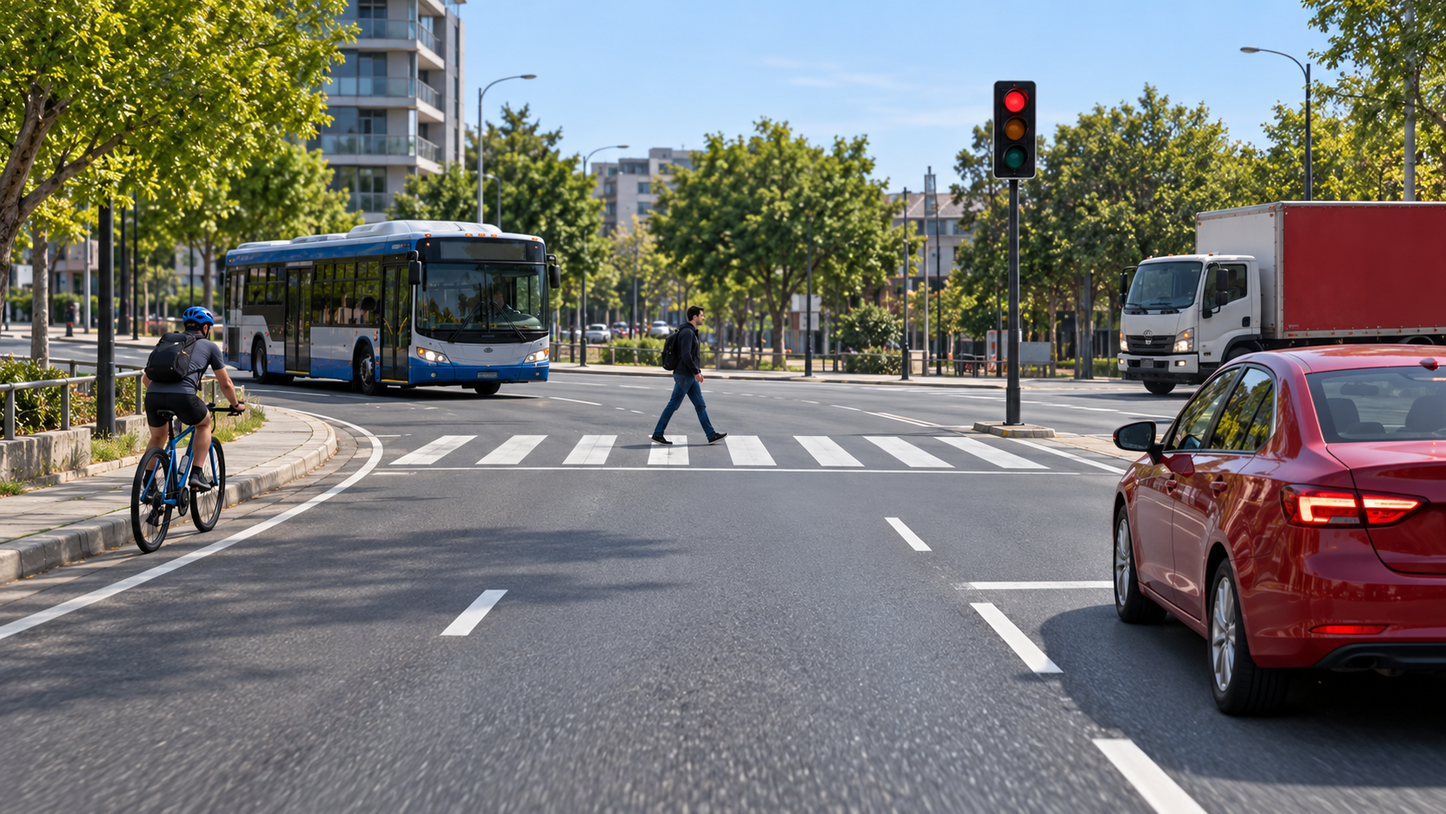bicycle: (1252, 390, 1343, 531)
bus: (154, 260, 496, 501)
car: (624, 377, 778, 489)
crossing_warning_sign: (22, 157, 153, 285)
motorcycle: (1138, 413, 1267, 535)
person: (536, 345, 657, 555), (1137, 353, 1264, 493), (1254, 346, 1340, 504)
stop_sign: (1328, 167, 1442, 286)
traffic_light: (1035, 49, 1096, 158)
truck: (813, 250, 1097, 492)
zebra_crossing: (0, 516, 1445, 613)
